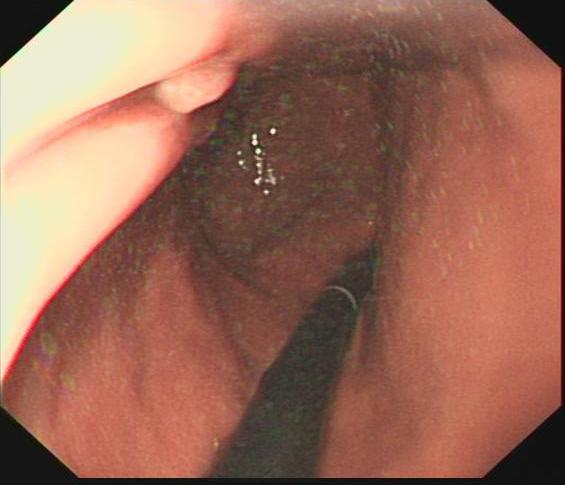Polyp: (148, 60, 241, 120)
